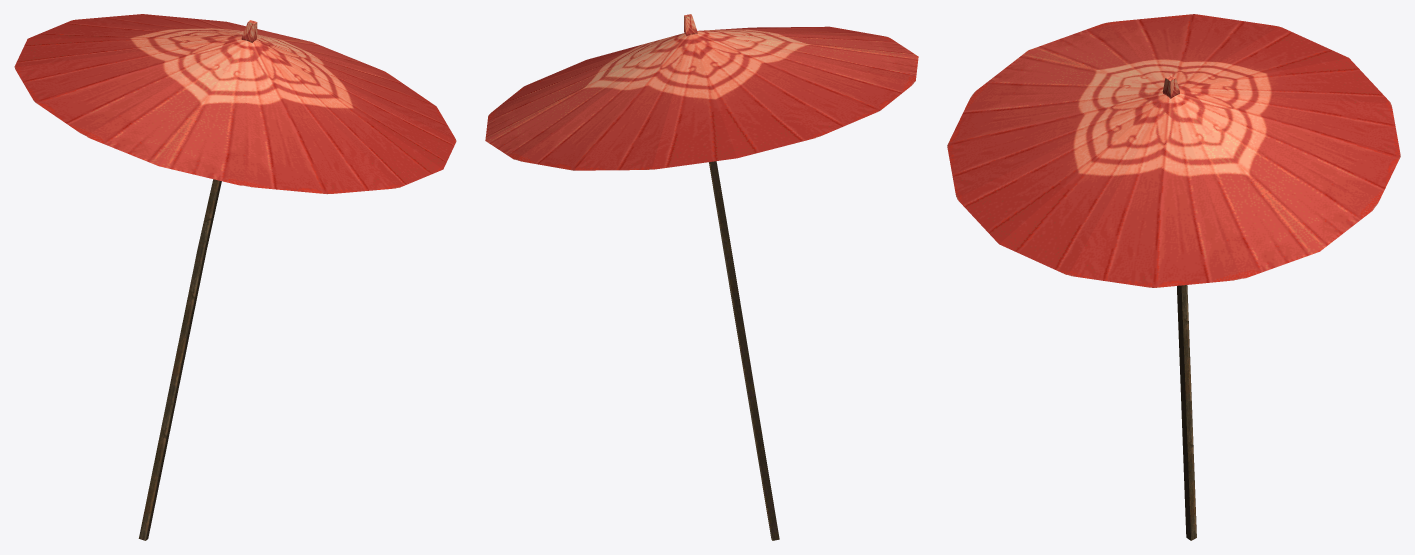
Rendered from xsz_san_1.FBX.
The picture shows the model from 3 angles, left to right: view 1: azimuth 30°, elevation 25°; view 2: azimuth 150°, elevation 25°; view 3: azimuth 270°, elevation 25°; orthographic projection. The views are drawn at different scales.
Visible parts, largest first — view 1: xsz_san_1; view 2: xsz_san_1; view 3: xsz_san_1.
Part boxes in pixels (box(x1,y1,x2,y2)): xsz_san_1: box(14, 14, 456, 540); xsz_san_1: box(485, 14, 918, 540); xsz_san_1: box(947, 14, 1400, 540).
Bounding box in the file's own units: 11.5 × 14.44 × 11.63.
